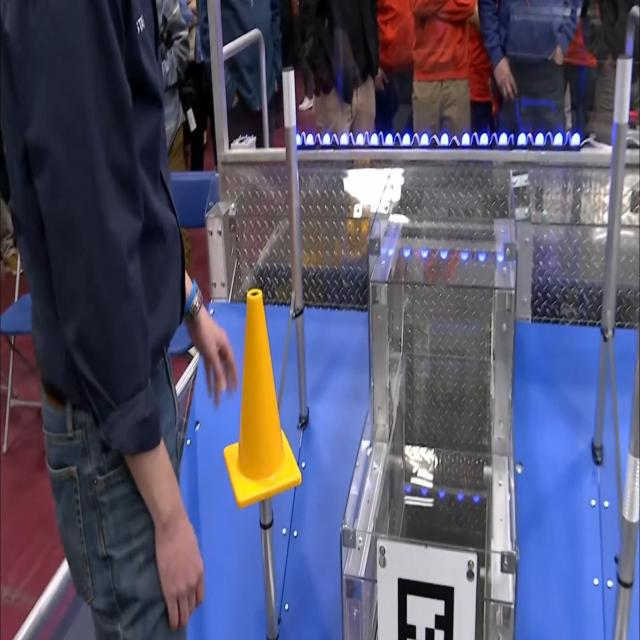frc_cone: (220, 287, 304, 511)
